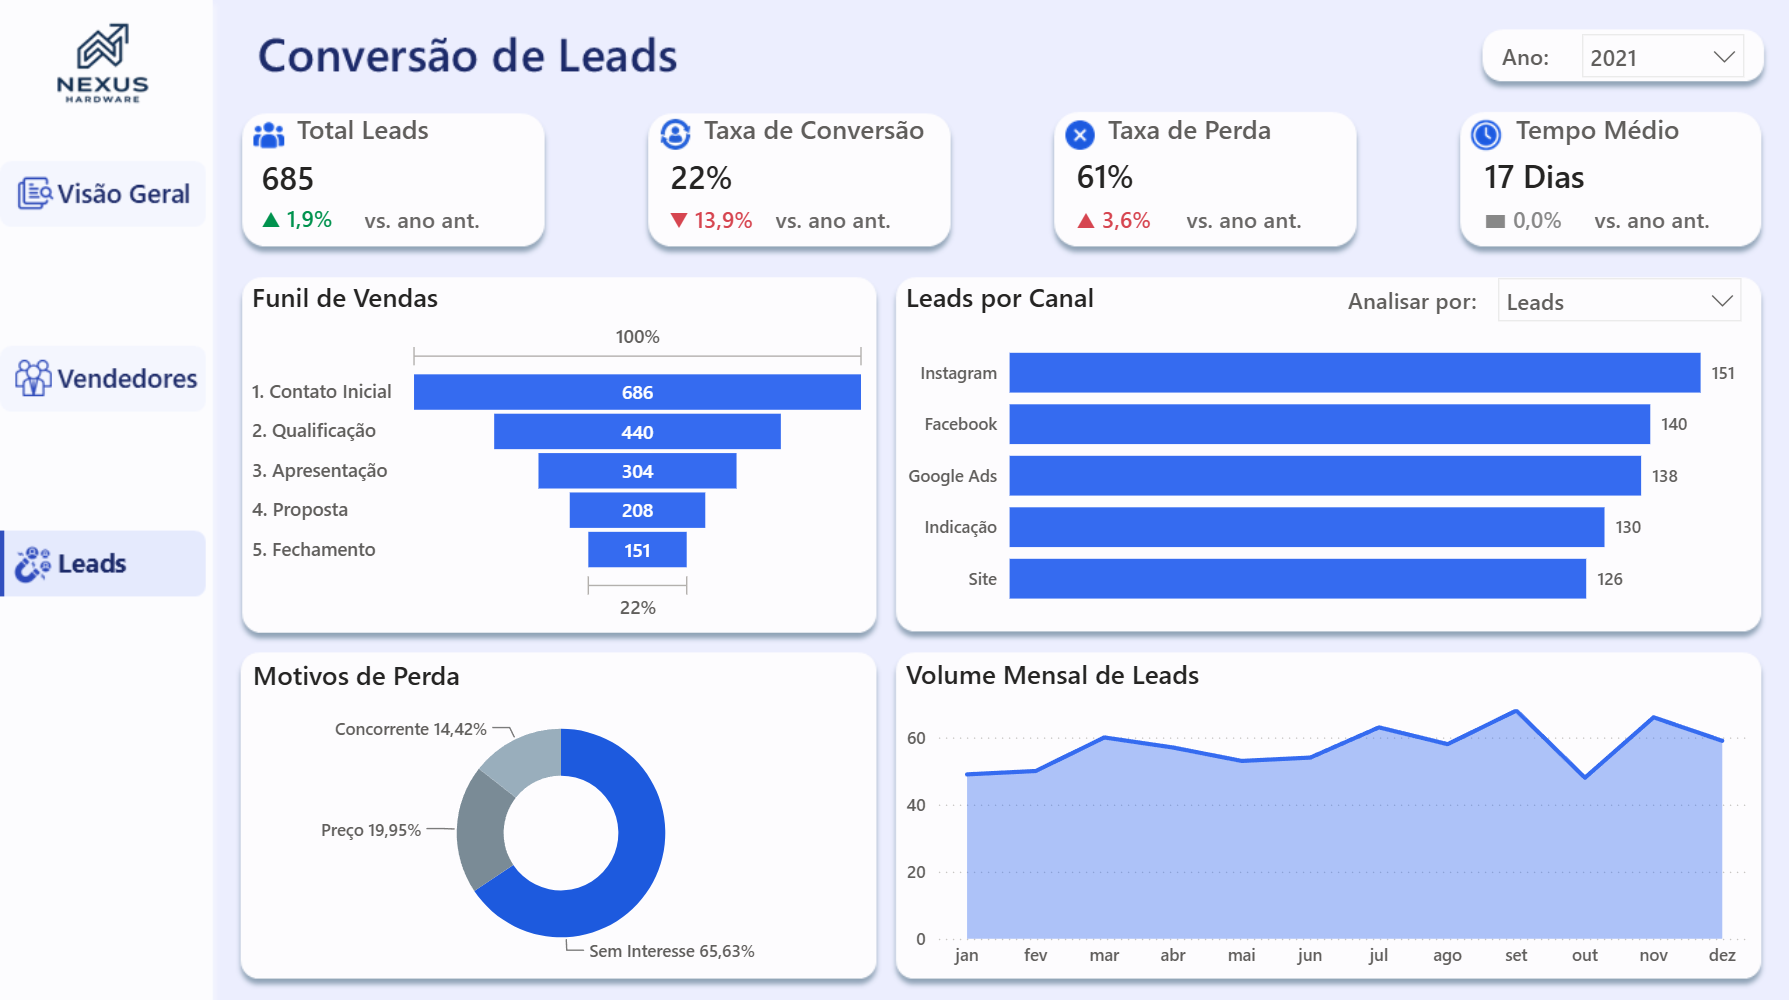

Layout of this report page (visuals, bound fields, positions):
{"tool":"powerbi","page":{"name":"Leads","canvas":[1280,720],"ordinal":3},"visuals":[{"type":"cardVisual","fields":{"Data":["Medidas.Total Leads"]},"box":[157.5,92.5,250,65],"z":0},{"type":"slicer","fields":{"Values":["dCalendario.Ano"]},"box":[1120,14,136,48],"z":1000},{"type":"textbox","box":[206.9,74.2,172.2,43.3],"z":2000},{"type":"cardVisual","fields":{"Data":["Medidas.% Conversão Leads"]},"box":[450,92.5,248.8,63.8],"z":3000},{"type":"cardVisual","fields":{"Data":["Medidas.KPI Leads"]},"box":[157.9,127.1,170,55.5],"z":3000,"group":"g1"},{"type":"cardVisual","fields":{"Data":["Medidas.KPI Conversão"]},"box":[449.6,127.5,170,55.5],"z":3000,"group":"g2"},{"type":"cardVisual","fields":{"Data":["Medidas.KPI Perda"]},"box":[740,127.5,170,55.5],"z":3000,"group":"g3"},{"type":"cardVisual","fields":{"Data":["Medidas.KPI Tempo"]},"box":[1031.2,127.5,170,55.5],"z":3000,"group":"g4"},{"type":"textbox","box":[497.5,74.2,171.7,43.3],"z":4000},{"type":"cardVisual","fields":{"Data":["Medidas.% Leads Perdidos"]},"box":[740,93.8,248.8,62.5],"z":5000},{"type":"textbox","box":[786.7,74.4,171.1,43.3],"z":6000},{"type":"clusteredBarChart","fields":{"Y":["Medidas.Qtd Leads Convertidos"],"Category":["fLeads.Origem"]},"box":[642,199,607,249],"z":6500},{"type":"cardVisual","fields":{"Data":["Medidas.Tempo Médio de Conversão"]},"box":[1031.2,93.8,248.8,62.5],"z":7000},{"type":"textbox","box":[1077.8,74.4,171.1,43.3],"z":8000},{"type":"funnel","title":"Funil de Vendas","fields":{"Category":["fFunil.Etapa"],"Y":["CountNonNull(fFunil.Etapa)"]},"box":[175,199,450,249],"z":9000},{"type":"slicer","fields":{"Values":["Leads Inteligentes.Leads Inteligentes"]},"box":[1060.2,188.6,194.4,44.4],"z":9500},{"type":"donutChart","title":"Motivos de Perda","fields":{"Category":["fLeads.Motivo da Perda"],"Y":["Medidas.Total Leads"]},"box":[175.5,469,450,226.5],"z":12000},{"type":"areaChart","fields":{"Category":["Tabela Eixo Ano/Meses.Rótulo"],"Y":["Medidas.Total Leads Inteligente Anos/Meses"]},"box":[642,468.7,612.7,232],"z":13000},{"type":"cardVisual","fields":{"Data":["Medidas.Texto Auxiliar"]},"box":[1110,123.8,145,62.5],"z":13500},{"type":"textbox","box":[957.7,198.5,117.5,32.5],"z":14000},{"type":"group","id":"g1","title":"Grupo 1","box":[157.9,127.1,170,55.5],"z":15000},{"type":"cardVisual","fields":{"Data":["Medidas.Texto Auxiliar"]},"box":[231.2,123.8,145,62.5],"z":16000},{"type":"group","id":"g2","title":"Grupo 1","box":[449.6,127.5,170,55],"z":17000},{"type":"cardVisual","fields":{"Data":["Medidas.Texto Auxiliar"]},"box":[525,123.8,145,62.5],"z":18000},{"type":"group","id":"g3","title":"Grupo 1","box":[740,127.5,170,55],"z":19000},{"type":"cardVisual","fields":{"Data":["Medidas.Texto Auxiliar"]},"box":[818.8,123.8,145,62.5],"z":20000},{"type":"group","id":"g4","title":"Grupo 1","box":[1031.2,127.5,170,55],"z":21000},{"type":"textbox","box":[1068,24,46,33],"z":23000},{"type":"actionButton","box":[0,115.8,147.3,47.3],"z":24000},{"type":"actionButton","box":[0,247.7,147.3,46.9],"z":25000},{"type":"actionButton","box":[0,380,147,47],"z":26000}]}

Visuals, with their boxes on the page's 1280x720 design canvas (x1, y1, x2, y2). These are canvas units, not pixel positions in the 1789x1000 screenshot, which may show the page scaled, cropped or inside an application window:
cardVisual - Medidas.Total Leads: 158 92 408 158
slicer - dCalendario.Ano: 1120 14 1256 62
textbox: 207 74 379 118
cardVisual - Medidas.% Conversão Leads: 450 92 699 156
cardVisual - Medidas.KPI Leads: 158 127 328 183
cardVisual - Medidas.KPI Conversão: 450 128 620 183
cardVisual - Medidas.KPI Perda: 740 128 910 183
cardVisual - Medidas.KPI Tempo: 1031 128 1201 183
textbox: 498 74 669 118
cardVisual - Medidas.% Leads Perdidos: 740 94 989 156
textbox: 787 74 958 118
clusteredBarChart - Medidas.Qtd Leads Convertidos x fLeads.Origem: 642 199 1249 448
cardVisual - Medidas.Tempo Médio de Conversão: 1031 94 1280 156
textbox: 1078 74 1249 118
"Funil de Vendas" funnel: 175 199 625 448
slicer - Leads Inteligentes.Leads Inteligentes: 1060 189 1255 233
"Motivos de Perda" donutChart: 176 469 626 696
areaChart - Tabela Eixo Ano/Meses.Rótulo x Medidas.Total Leads Inteligente Anos/Meses: 642 469 1255 701
cardVisual - Medidas.Texto Auxiliar: 1110 124 1255 186
textbox: 958 198 1075 231
"Grupo 1" group: 158 127 328 183
cardVisual - Medidas.Texto Auxiliar: 231 124 376 186
"Grupo 1" group: 450 128 620 182
cardVisual - Medidas.Texto Auxiliar: 525 124 670 186
"Grupo 1" group: 740 128 910 182
cardVisual - Medidas.Texto Auxiliar: 819 124 964 186
"Grupo 1" group: 1031 128 1201 182
textbox: 1068 24 1114 57
actionButton: 0 116 147 163
actionButton: 0 248 147 295
actionButton: 0 380 147 427
